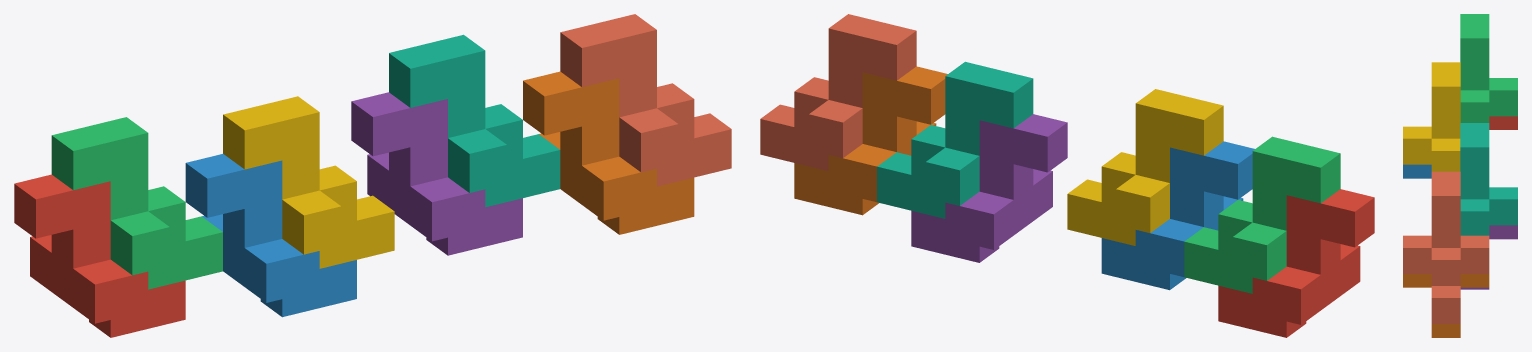
File: tiling.obj
3 renders of one model, left to right at view 1: azimuth 30°, elevation 25°; view 2: azimuth 150°, elevation 25°; view 3: azimuth 270°, elevation 25°, orthographic. The views are drawn at different scales.
Parts seen in each view (by area): view 1: copy_1_domain_1, copy_1_domain_5, copy_1_domain_3, copy_1_domain_8, copy_1_domain_4, copy_1_domain_7, copy_1_domain_2, copy_1_domain_6; view 2: copy_1_domain_1, copy_1_domain_5, copy_1_domain_3, copy_1_domain_7, copy_1_domain_8, copy_1_domain_4, copy_1_domain_6, copy_1_domain_2; view 3: copy_1_domain_8, copy_1_domain_7, copy_1_domain_4, copy_1_domain_3, copy_1_domain_6, copy_1_domain_5, copy_1_domain_2, copy_1_domain_1.
Part boxes in pixels (x1=…): copy_1_domain_1: x1=14, y1=174, x2=185, y2=337; copy_1_domain_5: x1=351, y1=92, x2=522, y2=255; copy_1_domain_3: x1=51, y1=117, x2=222, y2=289; copy_1_domain_8: x1=560, y1=14, x2=731, y2=186; copy_1_domain_4: x1=223, y1=96, x2=394, y2=268; copy_1_domain_7: x1=389, y1=34, x2=560, y2=207; copy_1_domain_2: x1=185, y1=154, x2=356, y2=317; copy_1_domain_6: x1=523, y1=71, x2=694, y2=234; copy_1_domain_1: x1=1218, y1=189, x2=1374, y2=337; copy_1_domain_5: x1=911, y1=114, x2=1067, y2=262; copy_1_domain_3: x1=1184, y1=136, x2=1340, y2=293; copy_1_domain_7: x1=877, y1=61, x2=1033, y2=218; copy_1_domain_8: x1=760, y1=14, x2=916, y2=171; copy_1_domain_4: x1=1067, y1=89, x2=1223, y2=245; copy_1_domain_6: x1=794, y1=66, x2=947, y2=215; copy_1_domain_2: x1=1101, y1=141, x2=1254, y2=290; copy_1_domain_8: x1=1403, y1=171, x2=1489, y2=323; copy_1_domain_7: x1=1460, y1=123, x2=1517, y2=235; copy_1_domain_4: x1=1403, y1=62, x2=1460, y2=171; copy_1_domain_3: x1=1460, y1=14, x2=1517, y2=122; copy_1_domain_6: x1=1403, y1=274, x2=1489, y2=337; copy_1_domain_5: x1=1460, y1=225, x2=1517, y2=289; copy_1_domain_2: x1=1403, y1=164, x2=1431, y2=178; copy_1_domain_1: x1=1489, y1=116, x2=1517, y2=129.
Bounding box in the file's own units: 18 × 5 × 4.
